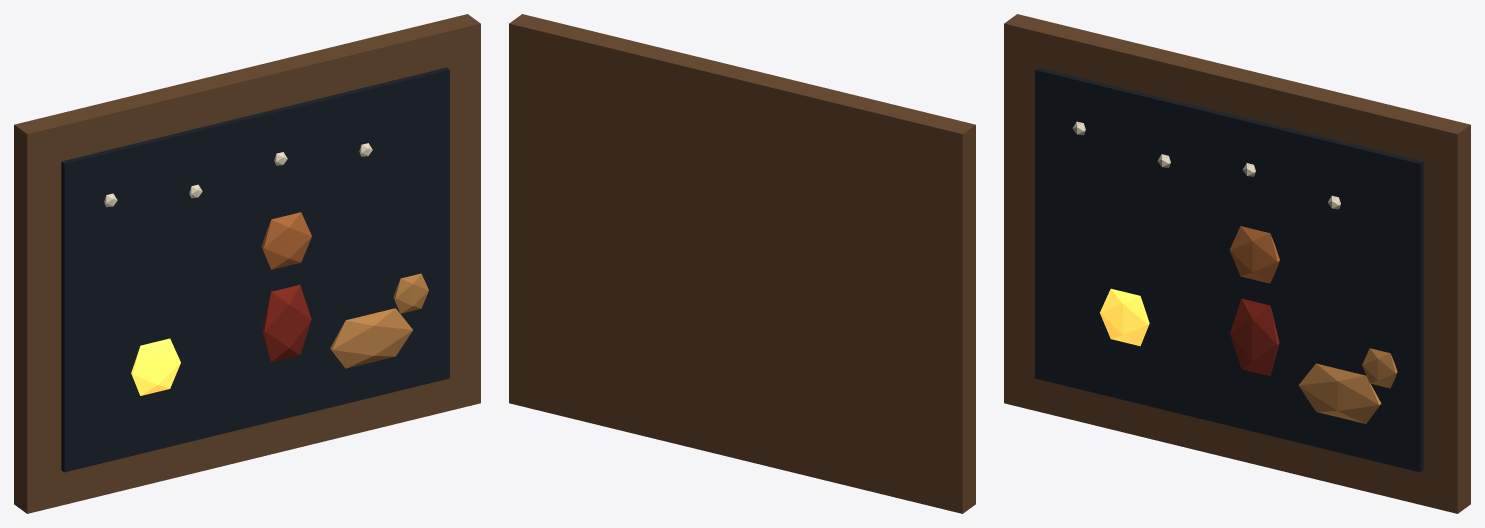
The model's file is painting.glb.
3 renders of one model, left to right at view 1: azimuth 30°, elevation 25°; view 2: azimuth 150°, elevation 25°; view 3: azimuth 330°, elevation 25°, orthographic.
Visible parts, largest first — view 1: painting; view 2: painting; view 3: painting.
Boxes of the visible parts, x1,y1,x2,y2 form: painting: (14,14,480,513); painting: (509,14,975,513); painting: (1004,14,1470,513).
Bounding box in the file's own units: 0.8 × 0.64 × 0.0619.
